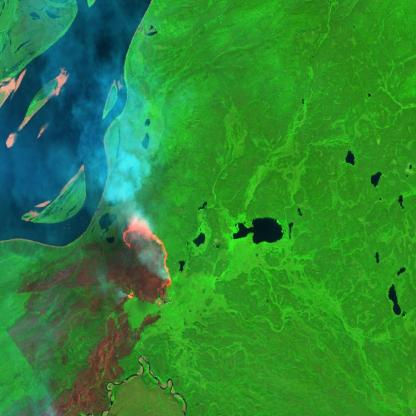fire: (122, 217, 175, 303)
